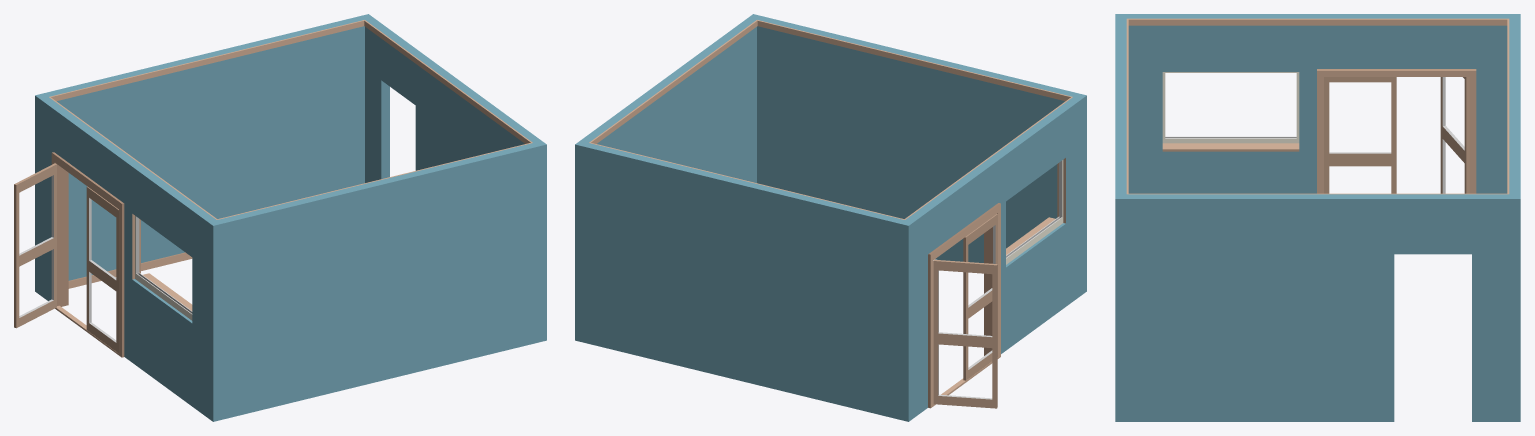
Rendered from Kitchen Walls.fbx.
3 views of the same model, side by side, from view 1: azimuth 30°, elevation 25°; view 2: azimuth 150°, elevation 25°; view 3: azimuth 270°, elevation 25° (orthographic). The views are drawn at different scales.
Visible parts, largest first — view 1: Kitchen Walls, Kitchen Ceiling Board, French Doors Frame, Door 3.001, Door 3, Window Frame, Kitchen Base Board; view 2: Kitchen Walls, Kitchen Ceiling Board, Door 3.001, French Doors Frame, Door 3, Window Frame; view 3: Kitchen Walls, Kitchen Ceiling Board, French Doors Frame, Door 3, Window Frame, Door 3.001, Window Shelf.
Boxes of the visible parts, bbox=[...] form: Kitchen Walls: bbox=[35, 14, 546, 421]; Kitchen Ceiling Board: bbox=[49, 20, 532, 219]; French Doors Frame: bbox=[51, 152, 124, 357]; Door 3.001: bbox=[14, 163, 56, 328]; Door 3: bbox=[86, 186, 118, 353]; Window Frame: bbox=[135, 216, 192, 320]; Kitchen Base Board: bbox=[68, 252, 192, 288]; Kitchen Walls: bbox=[575, 14, 1086, 421]; Kitchen Ceiling Board: bbox=[589, 20, 1072, 219]; Door 3.001: bbox=[933, 259, 997, 408]; French Doors Frame: bbox=[928, 203, 1000, 408]; Door 3: bbox=[963, 214, 997, 380]; Window Frame: bbox=[1006, 160, 1063, 264]; Kitchen Walls: bbox=[1115, 14, 1520, 421]; Kitchen Ceiling Board: bbox=[1126, 18, 1509, 194]; French Doors Frame: bbox=[1317, 69, 1476, 193]; Door 3: bbox=[1324, 77, 1396, 193]; Window Frame: bbox=[1162, 72, 1299, 143]; Door 3.001: bbox=[1440, 77, 1469, 193]; Window Shelf: bbox=[1162, 143, 1299, 151].
Size of the model in its own units: 5.68 by 2.74 by 4.52.
